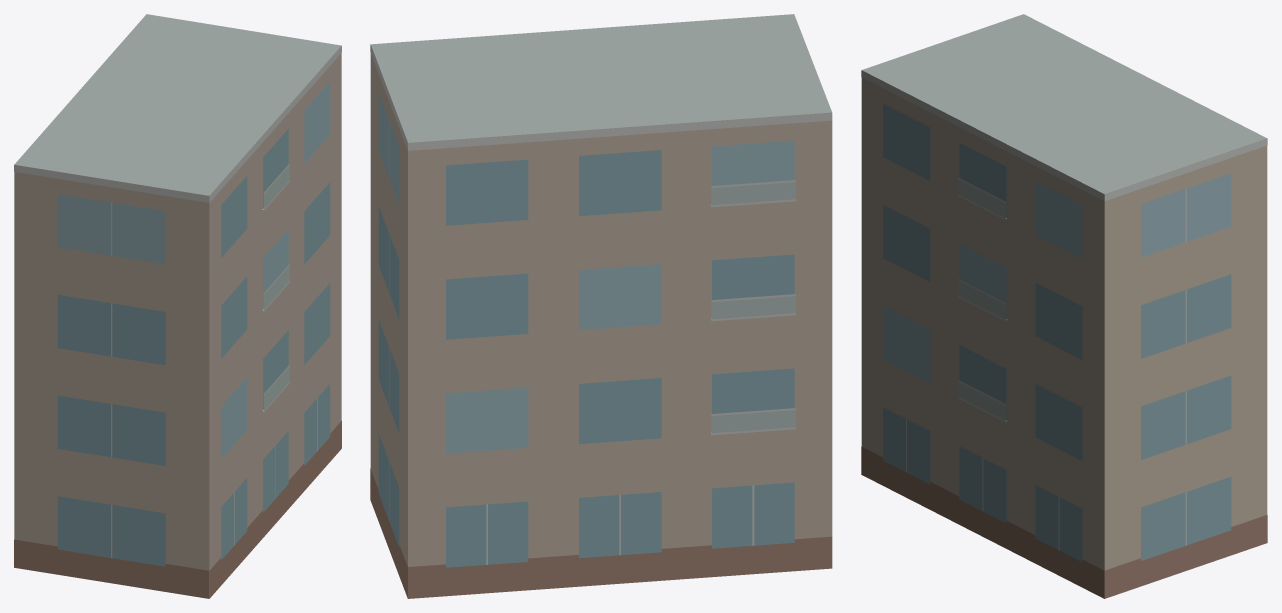
The model's file is survey-upis-32840662.glb.
3 renders of one model, left to right at view 1: azimuth 30°, elevation 25°; view 2: azimuth 150°, elevation 25°; view 3: azimuth 270°, elevation 25°, orthographic. The views are drawn at different scales.
Visible parts, largest first — view 1: survey-upis-32840662.tmp; view 2: survey-upis-32840662.tmp; view 3: survey-upis-32840662.tmp.
Boxes of the visible parts, bbox=[...] form: survey-upis-32840662.tmp: bbox=[14, 14, 341, 598]; survey-upis-32840662.tmp: bbox=[370, 14, 832, 598]; survey-upis-32840662.tmp: bbox=[861, 14, 1267, 598].
Bounding box in the file's own units: 13.31 × 13.93 × 12.67.
